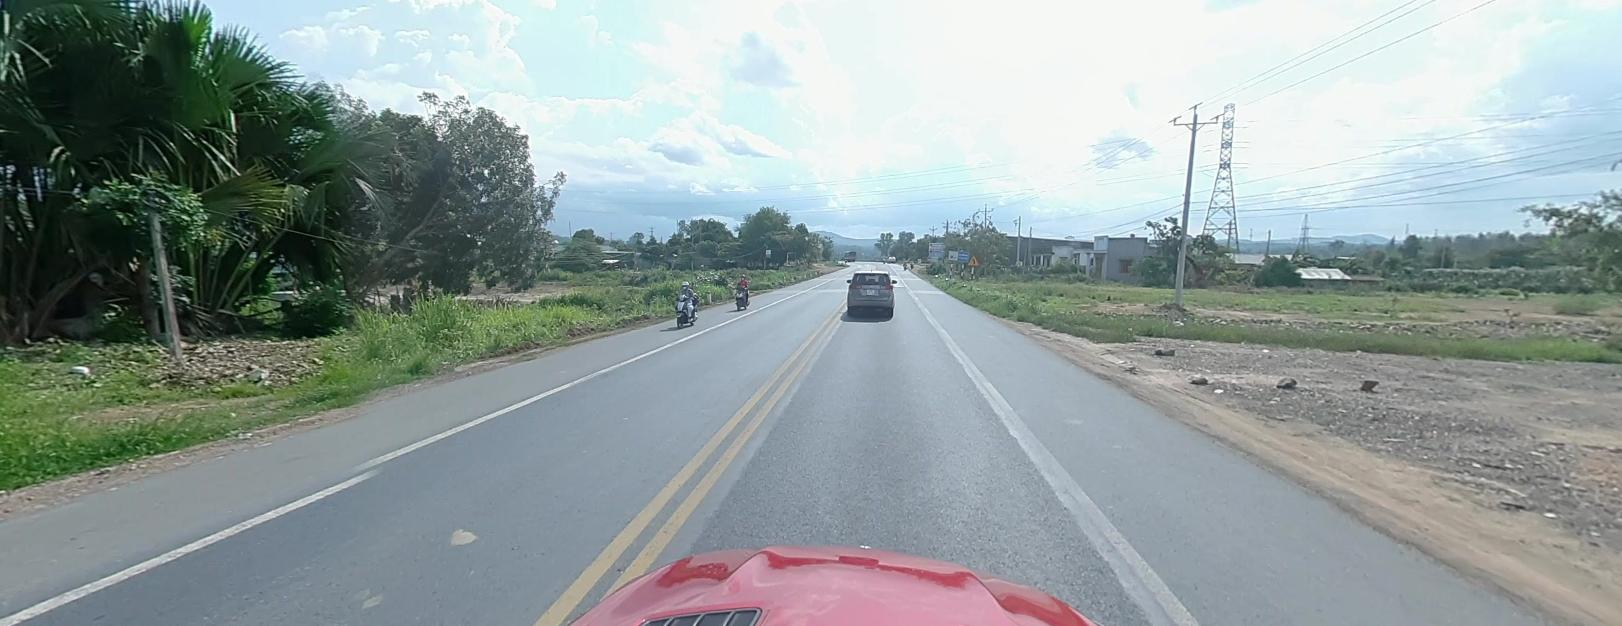Nguy hiem: (966, 254, 978, 264)
